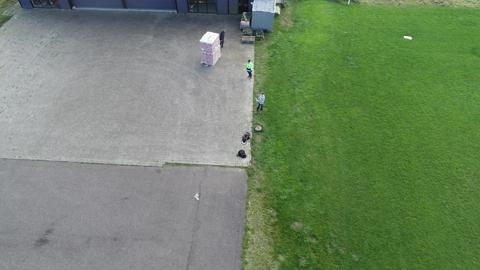RockwoolPallet: (201, 32, 222, 66)
